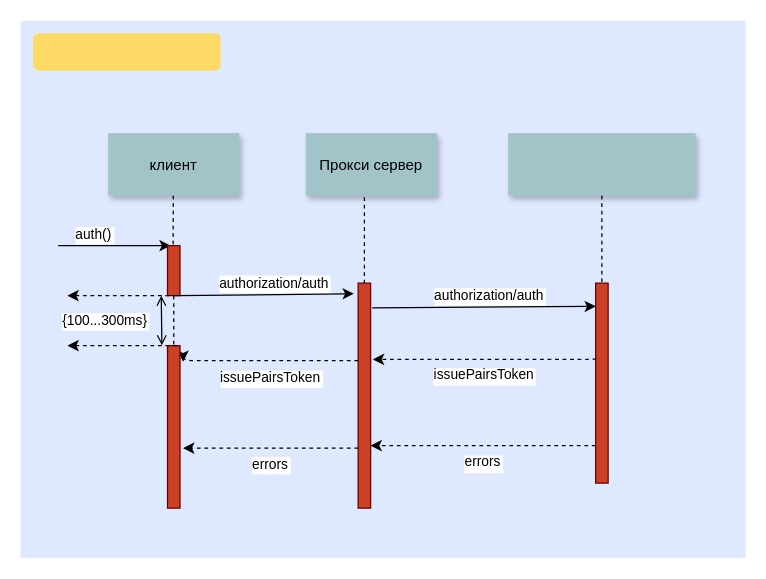
The diagram is 766 pixels wide and 579 high, and some of its shapes have lost their labels. The shapes that lost their labels are listed below. From the top down, each one's centre as x and y in pixels, then its label:
At point 126,51: "Авторизация".
At point 602,166: "Сервер Авторизации".
